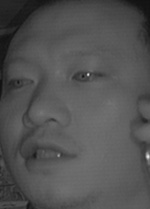eye: (69, 65, 106, 87), (6, 70, 37, 93)
mouth: (18, 135, 80, 175)
